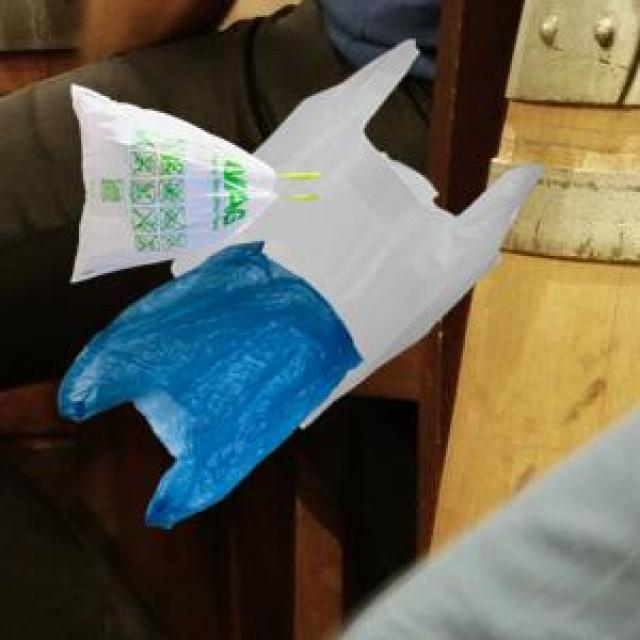waste: (59, 40, 541, 527)
